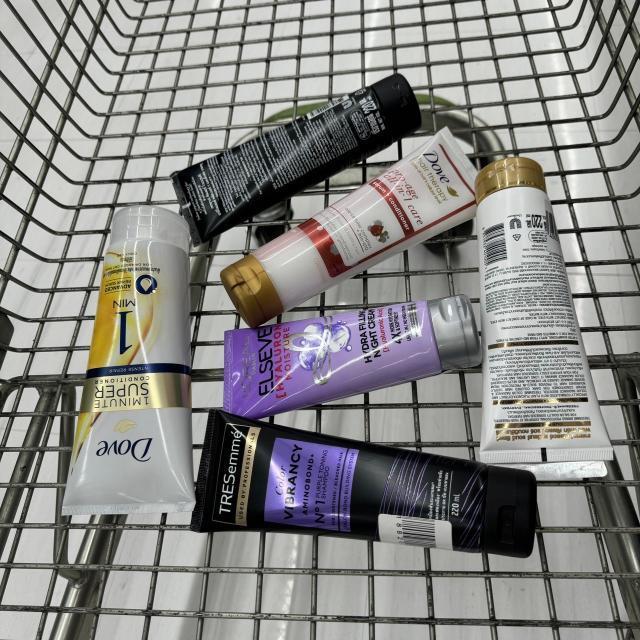Squeeze Tube: (186, 405, 546, 568), (215, 118, 484, 329), (55, 191, 212, 515), (172, 56, 432, 250), (47, 199, 200, 523), (479, 151, 621, 470), (224, 295, 485, 419)
